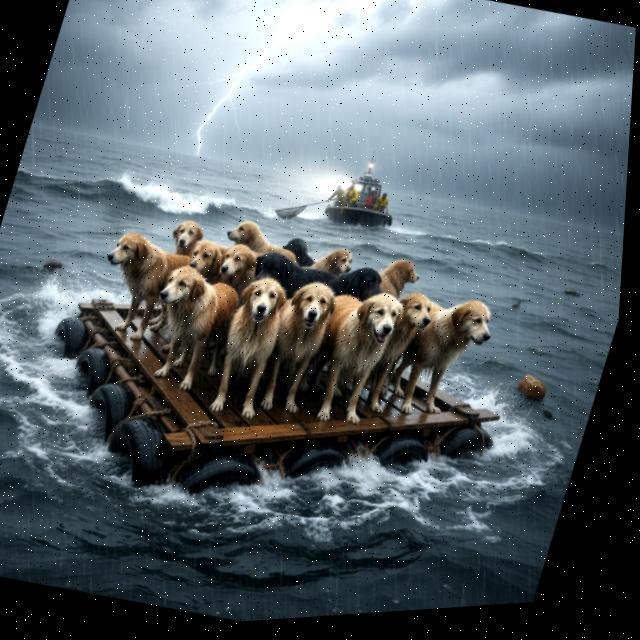dog: (384, 278, 504, 432), (291, 279, 403, 435), (131, 256, 248, 405), (199, 266, 303, 431), (79, 220, 198, 355), (240, 228, 398, 322), (249, 272, 344, 424), (358, 277, 442, 424), (213, 207, 312, 278), (205, 235, 271, 300), (365, 247, 427, 307), (291, 235, 360, 285), (181, 229, 235, 289), (159, 215, 209, 266), (276, 230, 324, 273)
rescuer: (338, 181, 362, 211), (325, 181, 349, 208), (372, 188, 393, 215), (361, 185, 381, 209)
